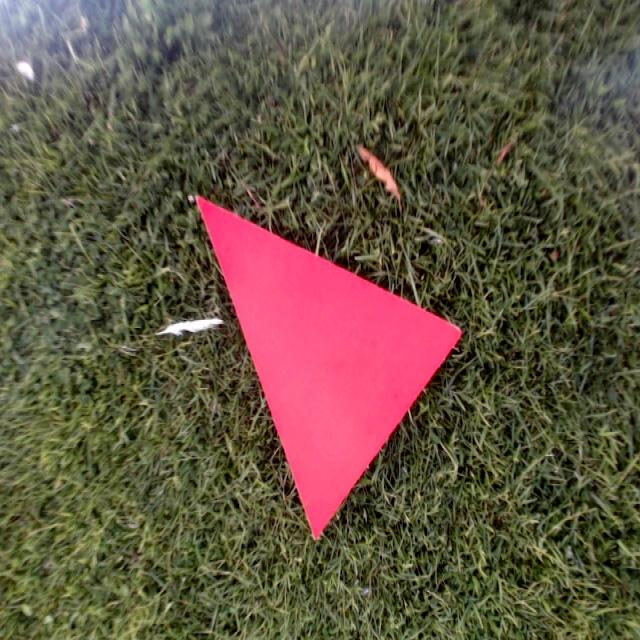red_triangle: (197, 193, 462, 544)
